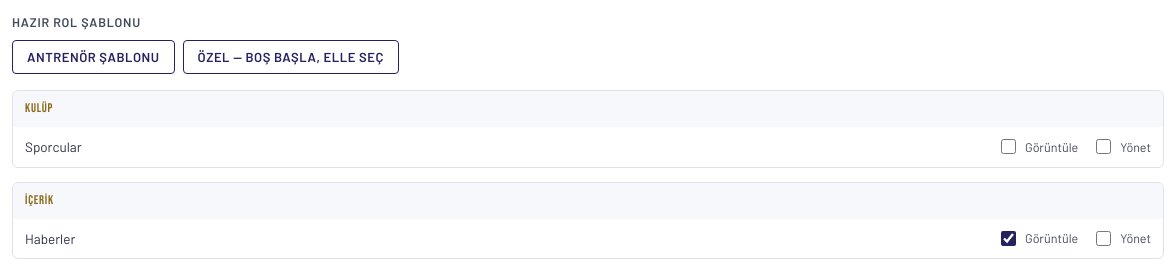
PermissionMatrix › rol şablonu butonu tıklanınca izin kümesini şablonla DEĞİŞTİRİR
Click the button with test id "perm-preset-antrenor". click: (93, 57)
box: [12, 40, 175, 74]
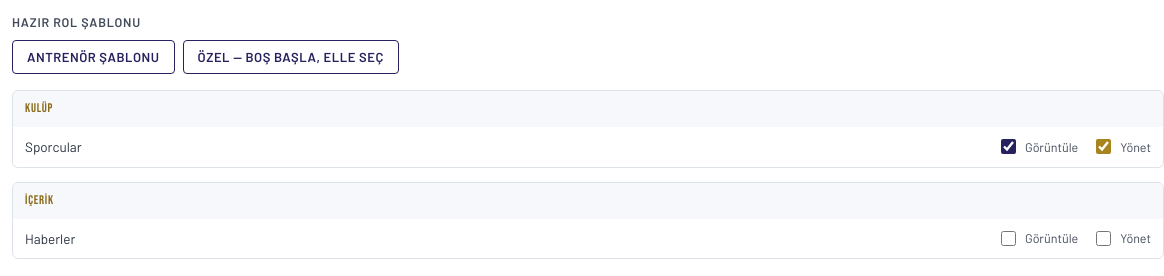
Now the checkbox with test id "perm-sporcular-view" is checked, box [1001, 139, 1016, 154]
Now the checkbox with test id "perm-sporcular-manage" is checked, box [1096, 139, 1111, 154]
Now the checkbox with test id "perm-haberler-view" is not checked, box [1001, 231, 1016, 246]
